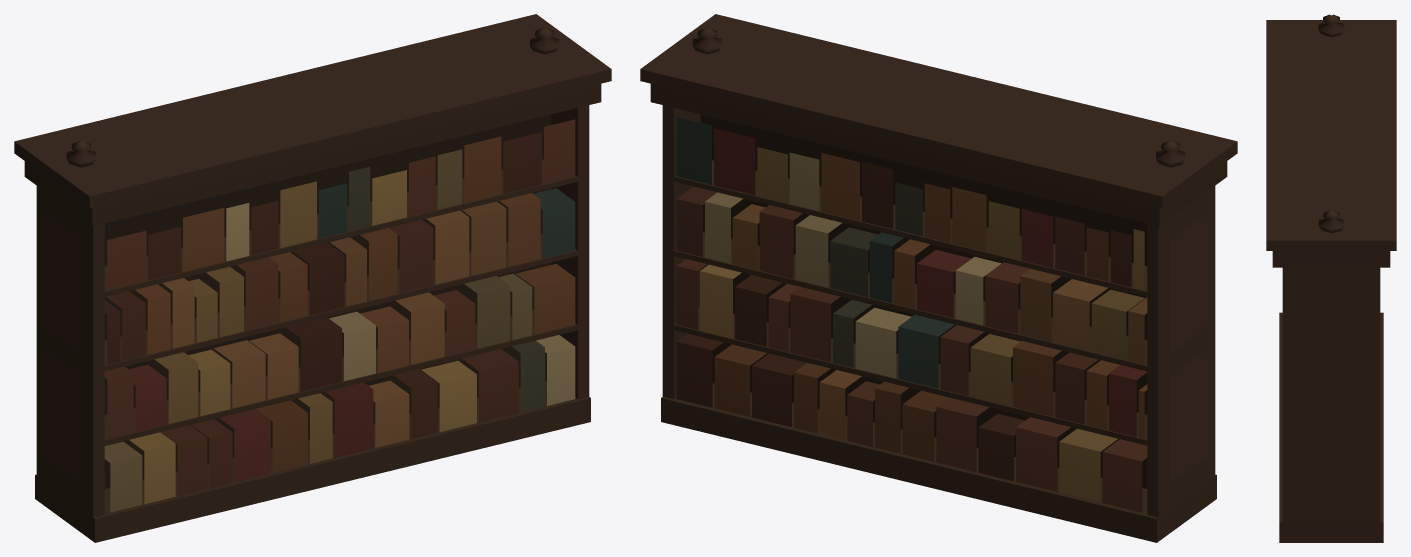
File: bookcase.double.dark_oak.glb
3 views of the same model, side by side, from view 1: azimuth 30°, elevation 25°; view 2: azimuth 150°, elevation 25°; view 3: azimuth 270°, elevation 25° (orthographic). The views are drawn at different scales.
Parts seen in each view (by area): view 1: bookcase_double_dark_oak; view 2: bookcase_double_dark_oak; view 3: bookcase_double_dark_oak.
Boxes of the visible parts, bbox=[...] form: bookcase_double_dark_oak: bbox=[14, 14, 611, 542]; bookcase_double_dark_oak: bbox=[640, 14, 1237, 542]; bookcase_double_dark_oak: bbox=[1266, 14, 1396, 542].
Size of what is drawn, in the model's own units: 3.2 by 2.2 by 0.8.
